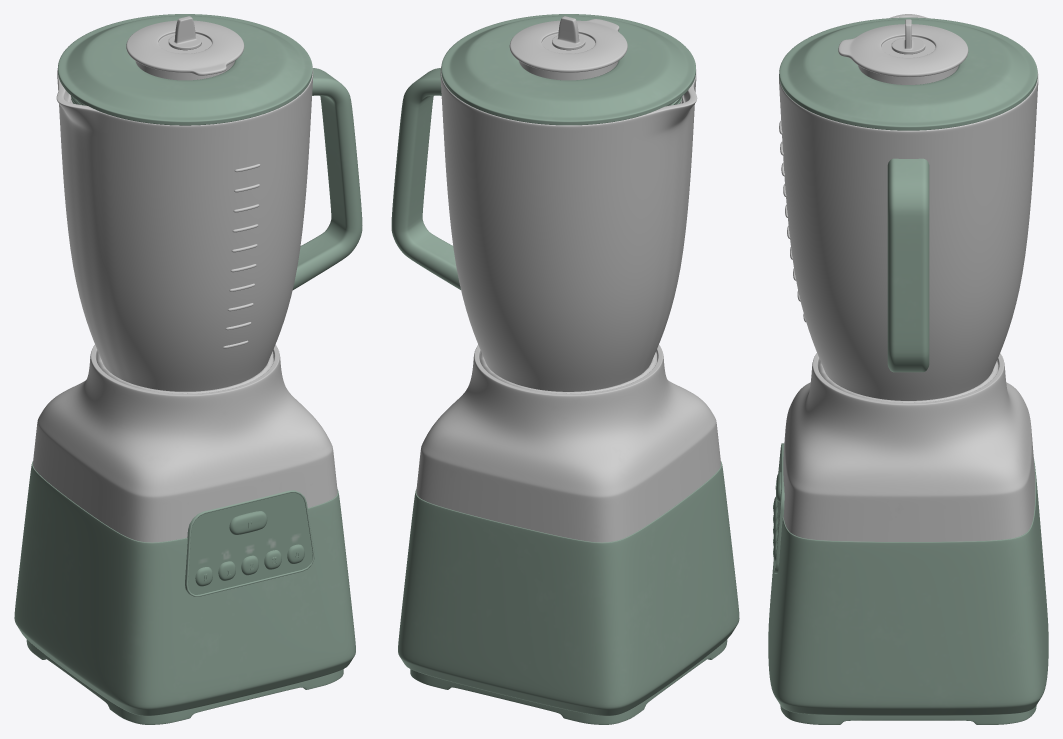
The model's file is blender.fbx.
The picture shows the model from 3 angles, left to right: view 1: azimuth 30°, elevation 25°; view 2: azimuth 150°, elevation 25°; view 3: azimuth 270°, elevation 25°; orthographic projection.
Visible parts, largest first — view 1: Box, Glass Cup, Cover, Buttons, Handle, Cover Transparent, Stir, Cup Support; view 2: Box, Glass Cup, Cover, Handle, Cover Transparent, Stir, Cup Support; view 3: Box, Glass Cup, Cover, Handle, Cover Transparent, Cup Support, Stir, Buttons.
Boxes of the visible parts, x1=… form: Box: x1=14, y1=344, x2=355, y2=724; Glass Cup: x1=56, y1=68, x2=313, y2=391; Cover: x1=58, y1=14, x2=312, y2=125; Buttons: x1=188, y1=493, x2=312, y2=594; Handle: x1=292, y1=68, x2=362, y2=289; Cover Transparent: x1=126, y1=20, x2=244, y2=80; Stir: x1=168, y1=16, x2=201, y2=50; Cup Support: x1=97, y1=351, x2=273, y2=393; Box: x1=398, y1=345, x2=739, y2=724; Glass Cup: x1=440, y1=67, x2=697, y2=391; Cover: x1=441, y1=14, x2=695, y2=125; Handle: x1=391, y1=68, x2=460, y2=289; Cover Transparent: x1=509, y1=19, x2=627, y2=80; Stir: x1=552, y1=16, x2=585, y2=50; Cup Support: x1=480, y1=351, x2=656, y2=393; Box: x1=768, y1=353, x2=1048, y2=724; Glass Cup: x1=779, y1=14, x2=1038, y2=400; Cover: x1=779, y1=17, x2=1037, y2=130; Handle: x1=887, y1=158, x2=929, y2=372; Cover Transparent: x1=838, y1=24, x2=968, y2=84; Cup Support: x1=818, y1=360, x2=998, y2=402; Stir: x1=891, y1=19, x2=925, y2=54; Buttons: x1=773, y1=450, x2=781, y2=563.
Size of the model in its own units: 18.03 by 37.31 by 14.61.
